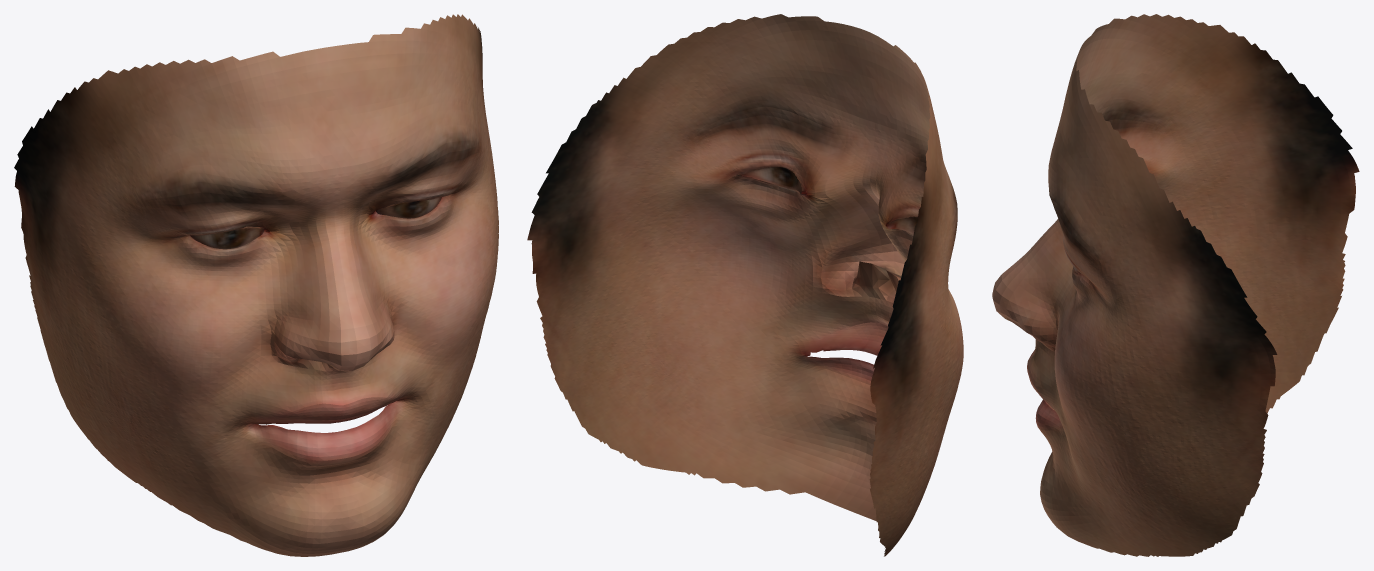
File: generated.photos_v3_0001290_mesh.obj
The picture shows the model from 3 angles, left to right: view 1: azimuth 30°, elevation 25°; view 2: azimuth 150°, elevation 25°; view 3: azimuth 270°, elevation 25°; orthographic projection. The views are drawn at different scales.
Bounding box in the file's own units: 1.46 × 1.72 × 1.19.
